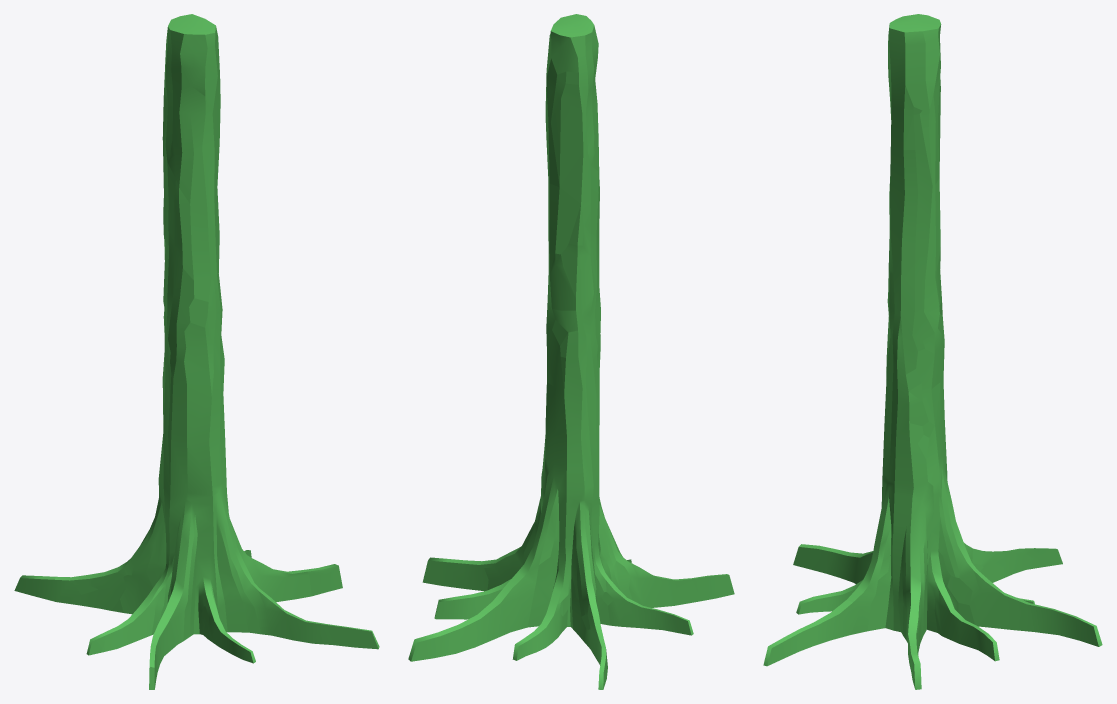
File: jungle_big_tree_A_dense.fbx
The picture shows the model from 3 angles, left to right: view 1: azimuth 30°, elevation 25°; view 2: azimuth 150°, elevation 25°; view 3: azimuth 270°, elevation 25°; orthographic projection.
Parts seen in each view (by area): view 1: jungle_big_tree_A_dense; view 2: jungle_big_tree_A_dense; view 3: jungle_big_tree_A_dense.
Part boxes in pixels (<box>): jungle_big_tree_A_dense: <box>14,14,379,689</box>; jungle_big_tree_A_dense: <box>408,14,734,689</box>; jungle_big_tree_A_dense: <box>763,14,1102,689</box>.
Size of the model in its own units: 405 by 883 by 456.
